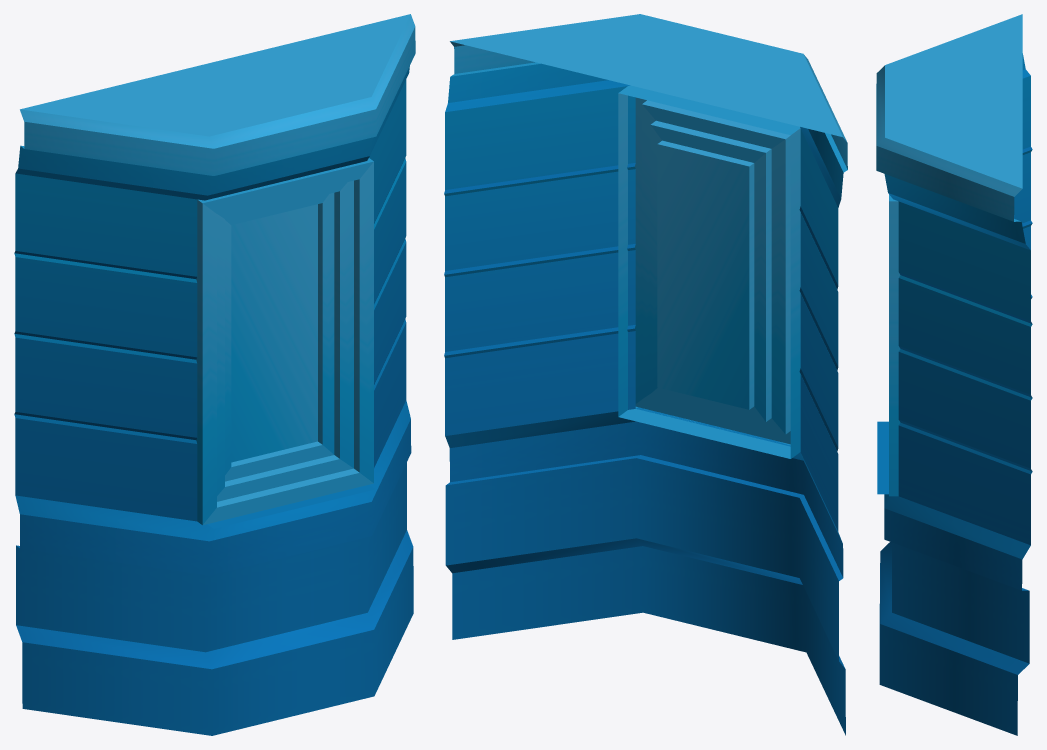
File: Pillar 03.fbx
3 renders of one model, left to right at view 1: azimuth 30°, elevation 25°; view 2: azimuth 150°, elevation 25°; view 3: azimuth 270°, elevation 25°, orthographic. The views are drawn at different scales.
Visible parts, largest first — view 1: Pillar 03.001; view 2: Pillar 03.001; view 3: Pillar 03.001.
Boxes of the visible parts, x1,y1,x2,y2 form: Pillar 03.001: [14, 14, 415, 735]; Pillar 03.001: [444, 14, 847, 735]; Pillar 03.001: [876, 14, 1032, 735].
Bounding box in the file's own units: 200 × 292 × 75.66.
